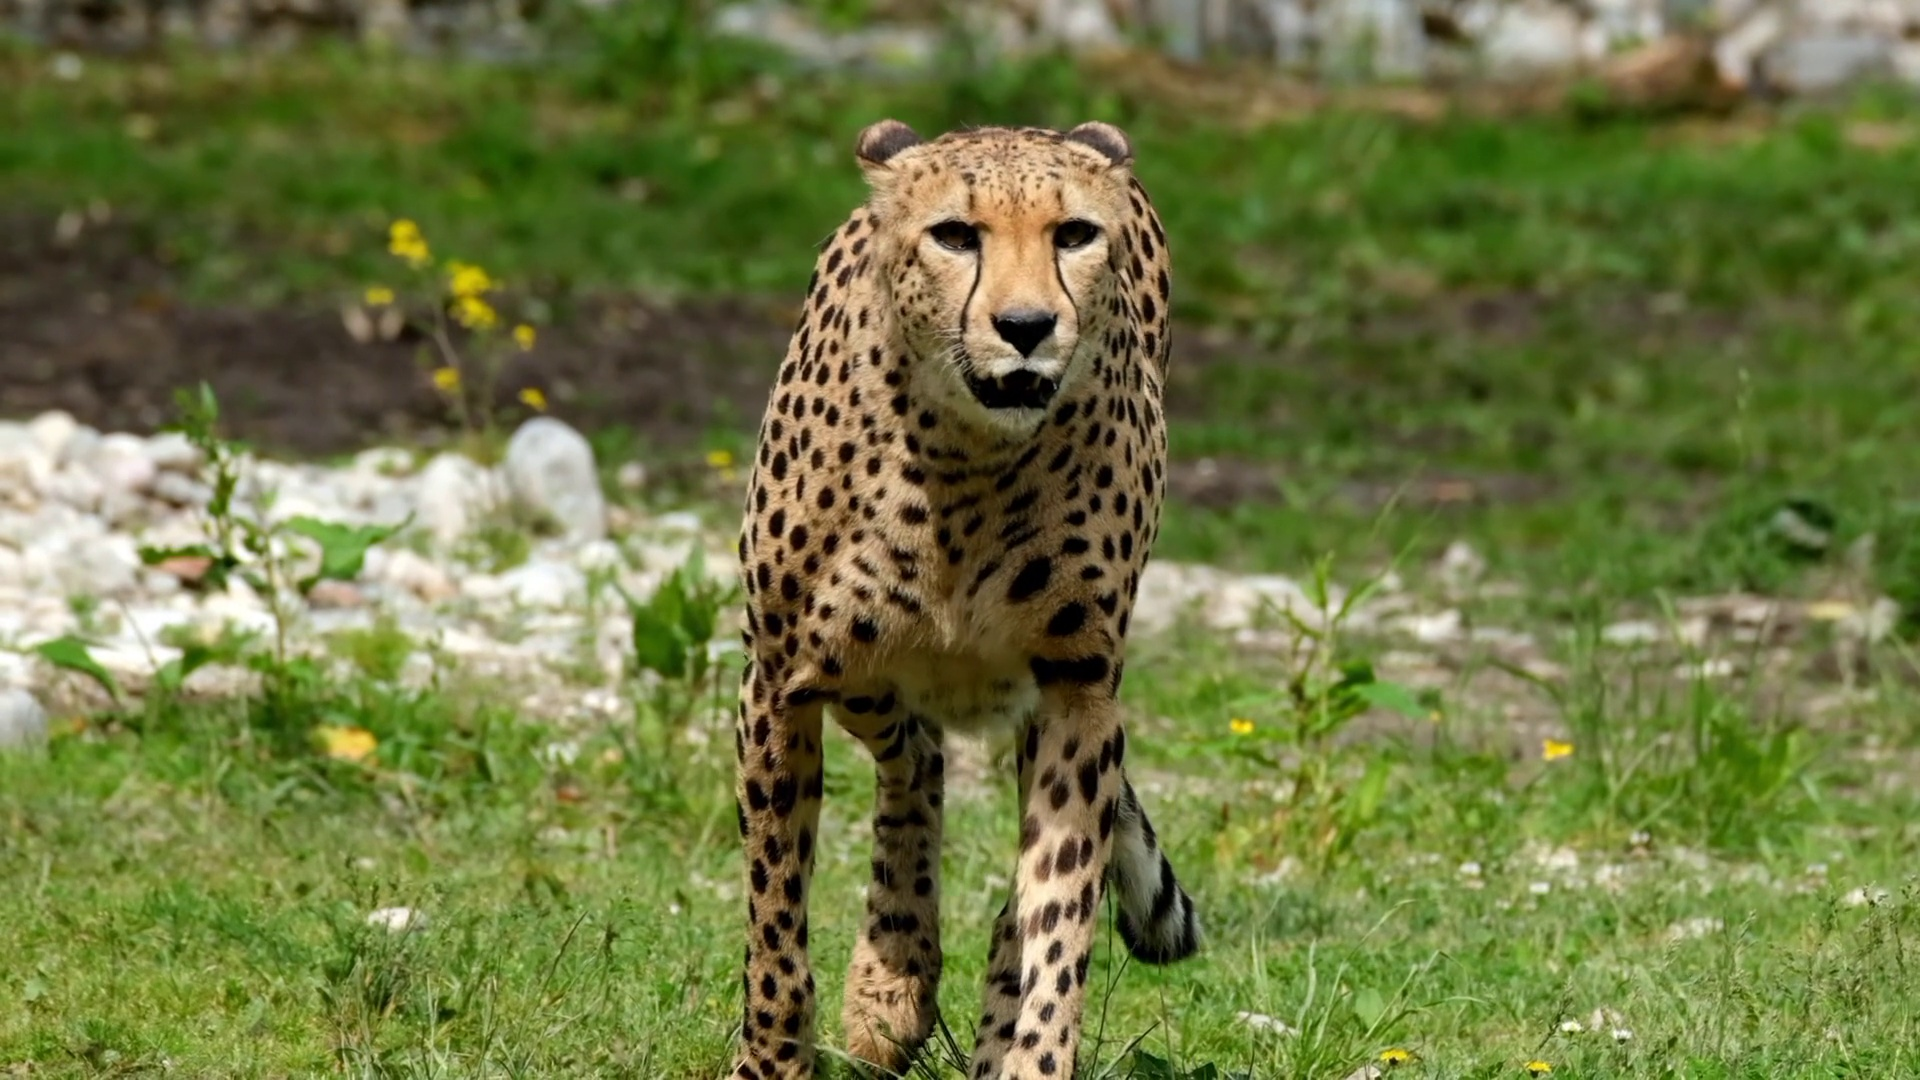Cheetah: (729, 105, 1215, 1080)
